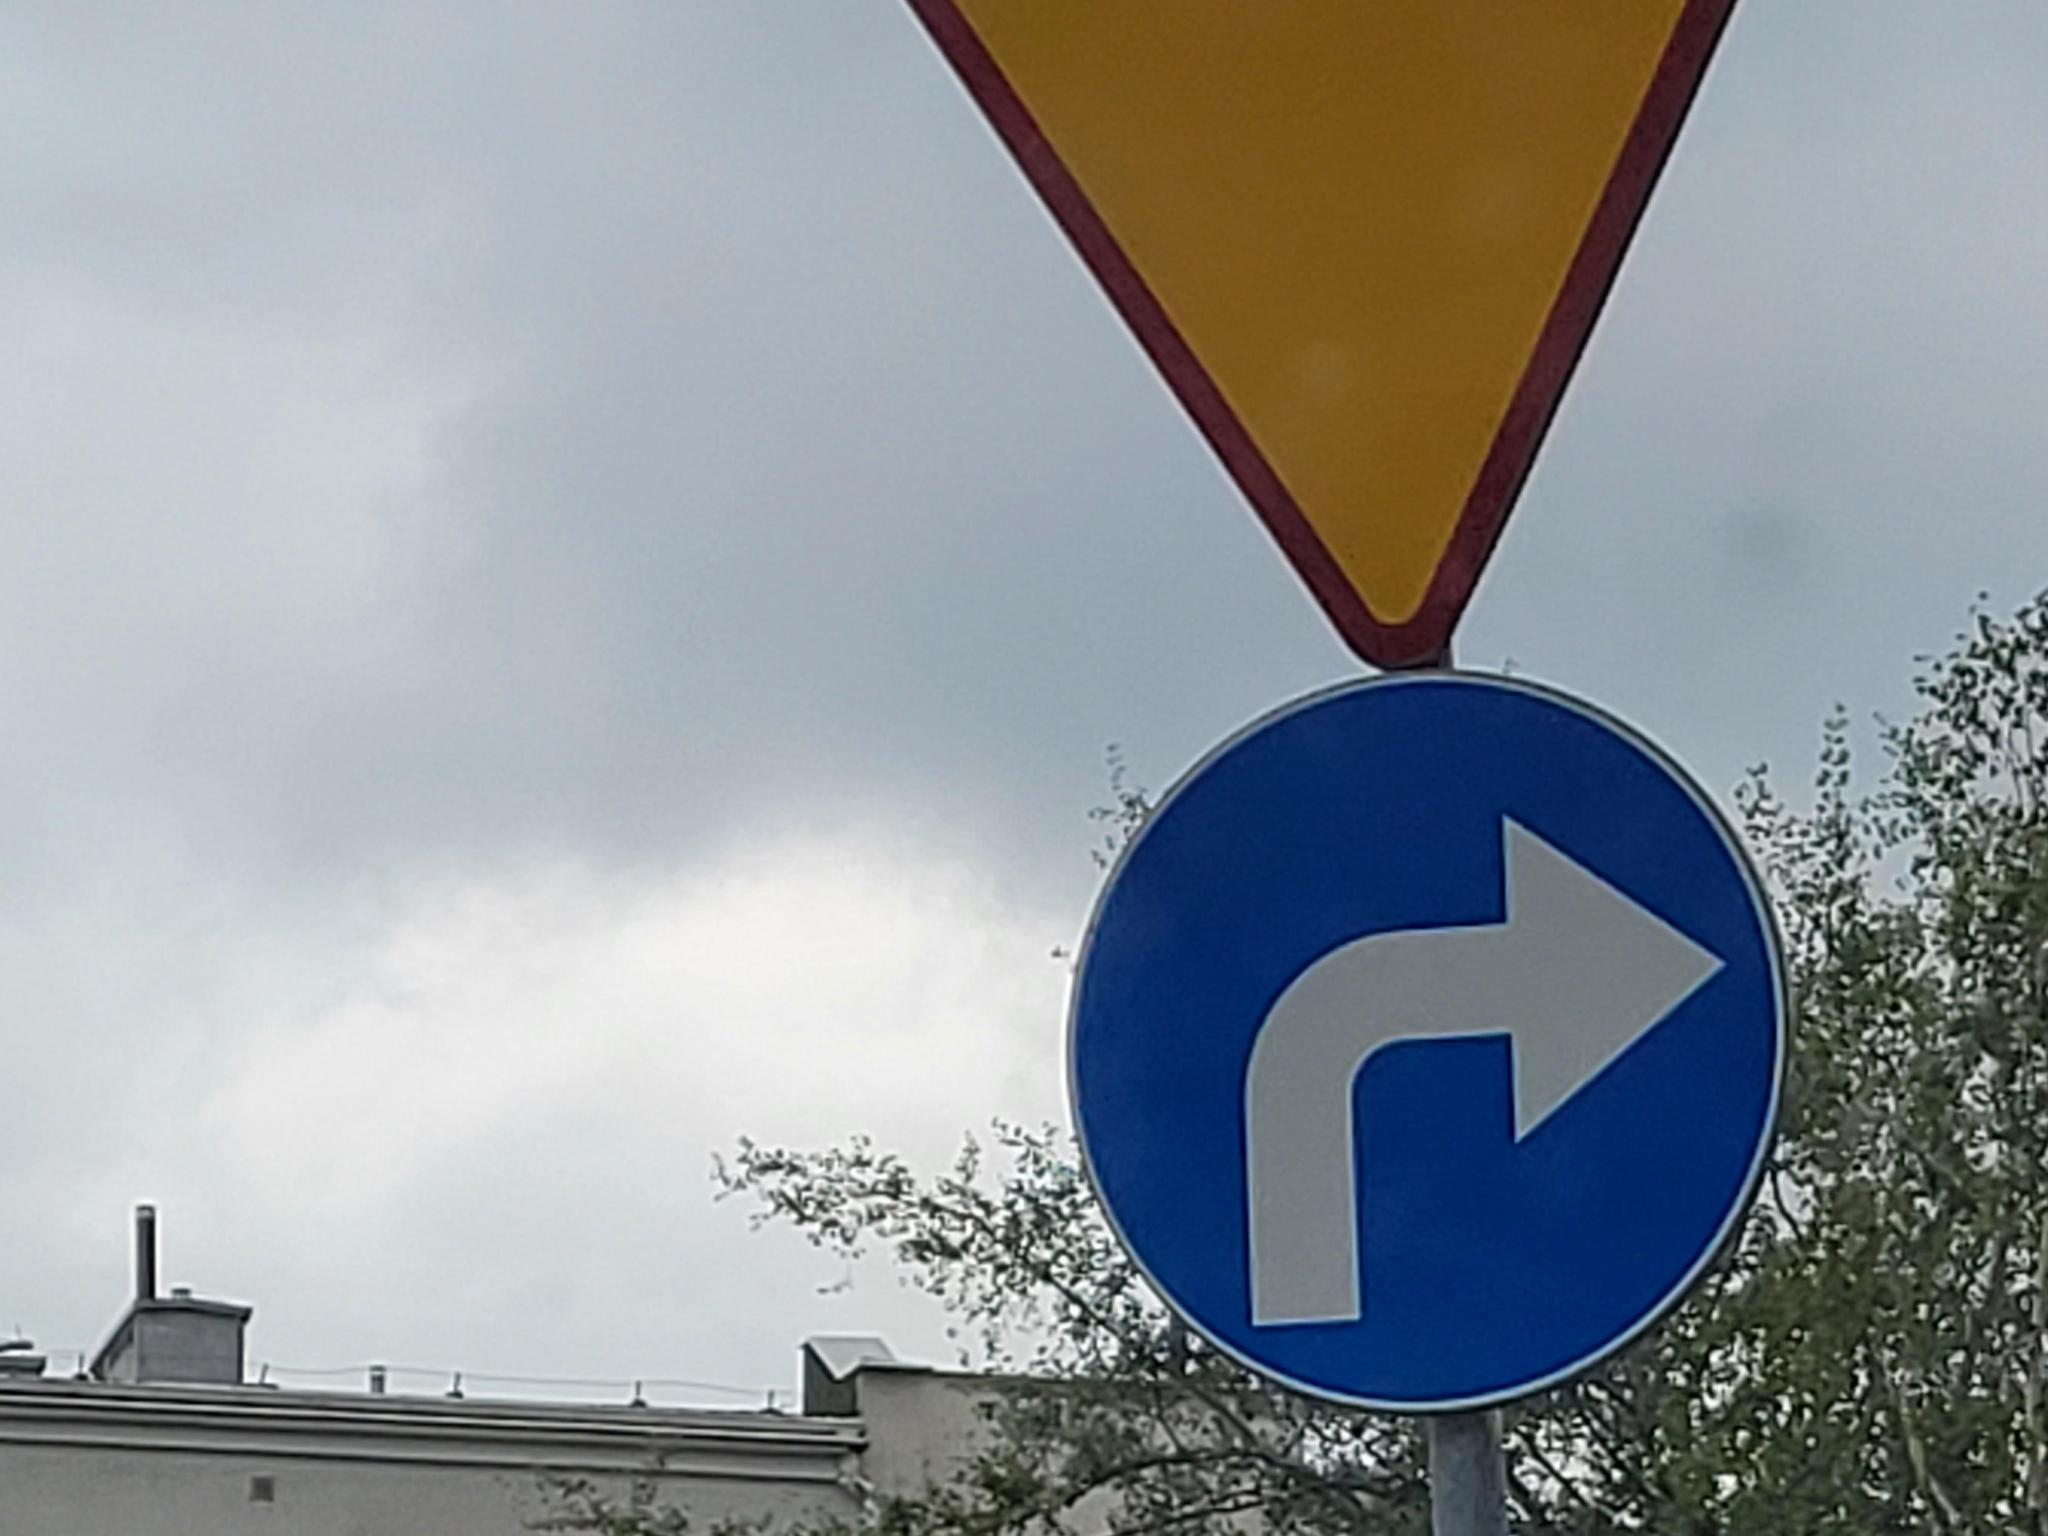mandatory: (1064, 668, 1795, 1418)
warning: (900, 0, 1743, 670)
